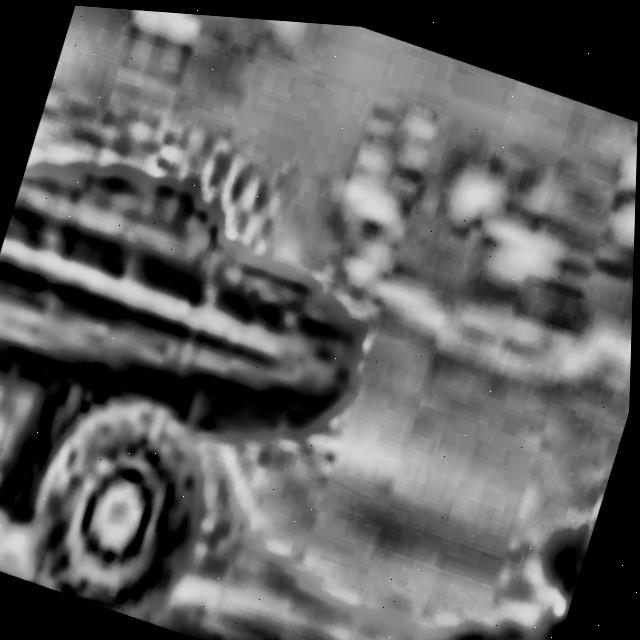dump_truck: (0, 64, 423, 640)
